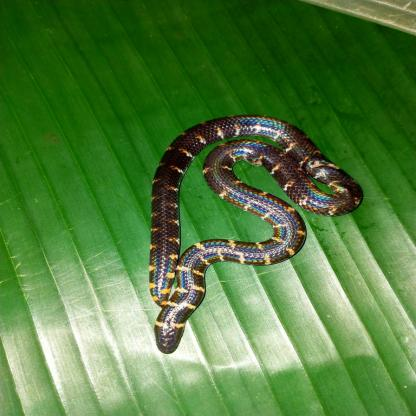Snake: (150, 113, 370, 359)
